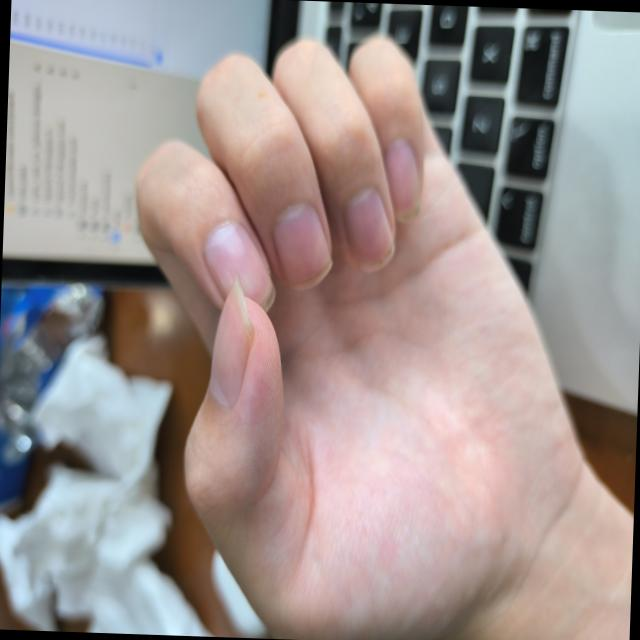Nail: (204, 219, 276, 311), (210, 273, 252, 405), (273, 202, 332, 288), (343, 186, 394, 271), (383, 137, 421, 220)
